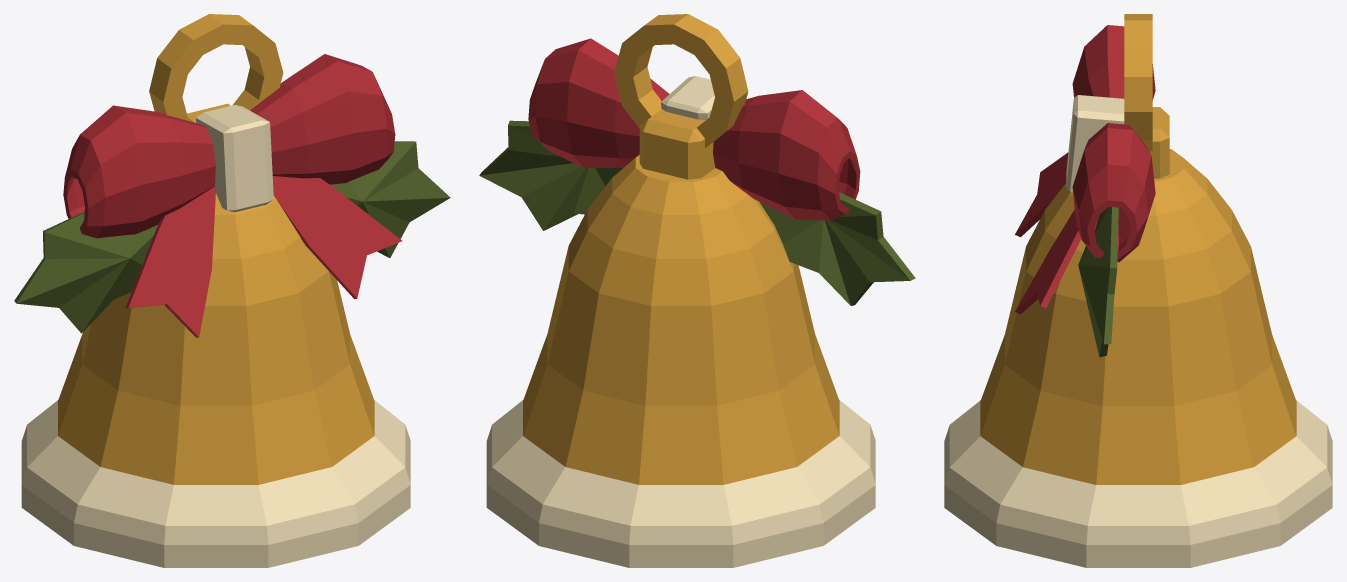
File: 26 Christmas Bell.glb
3 views of the same model, side by side, from view 1: azimuth 30°, elevation 25°; view 2: azimuth 150°, elevation 25°; view 3: azimuth 270°, elevation 25° (orthographic).
Visible parts, largest first — view 1: Thick ivory lip, Thick red fishtail ribbon, Thick red fishtail ribbon.001; view 2: Thick ivory lip, Top golden mounting cap; view 3: Thick ivory lip, Thick red fishtail ribbon.001, Thick red fishtail ribbon, Top golden mounting cap.
Part boxes in pixels (bbox=[...]): Thick ivory lip: bbox=[14, 14, 450, 567]; Thick red fishtail ribbon: bbox=[125, 186, 215, 337]; Thick red fishtail ribbon.001: bbox=[272, 176, 401, 299]; Thick ivory lip: bbox=[479, 14, 915, 567]; Top golden mounting cap: bbox=[639, 109, 715, 179]; Thick ivory lip: bbox=[944, 14, 1332, 567]; Thick red fishtail ribbon.001: bbox=[1015, 209, 1081, 314]; Thick red fishtail ribbon: bbox=[1015, 152, 1068, 237]; Top golden mounting cap: bbox=[1149, 107, 1169, 178].
Bounding box in the file's own units: 4.56 × 5.37 × 3.54.
